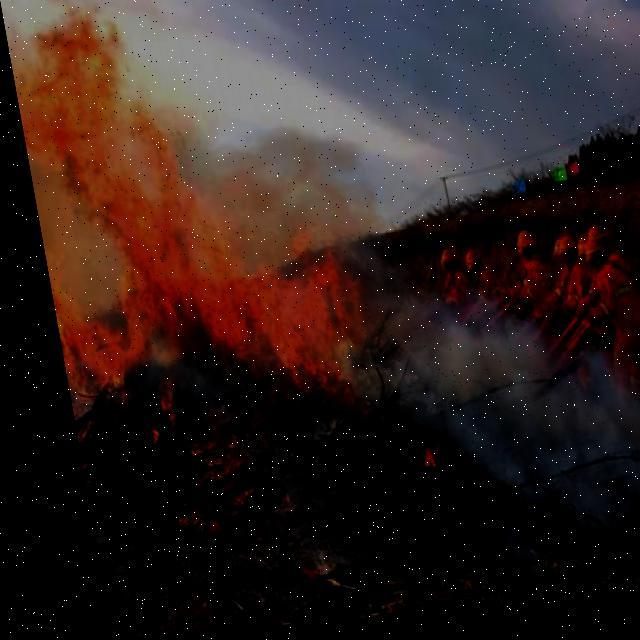Fire: (9, 24, 379, 584)
